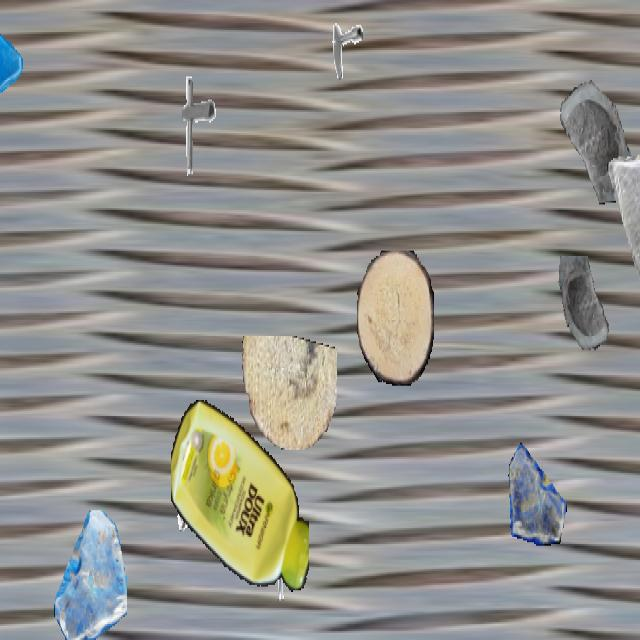glass: (550, 57, 632, 203), (54, 510, 126, 638), (555, 256, 617, 366), (508, 441, 566, 544), (606, 155, 640, 286), (0, 1, 25, 116)
metal: (164, 71, 224, 178), (171, 453, 217, 535), (263, 535, 307, 613), (321, 4, 363, 78)
plastic: (171, 393, 309, 599)
wood: (239, 336, 337, 450), (357, 250, 433, 386)
